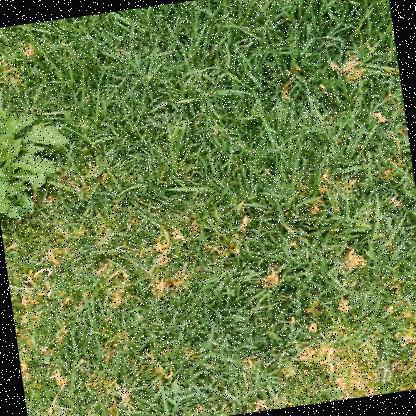Weeds: (0, 80, 81, 224)
